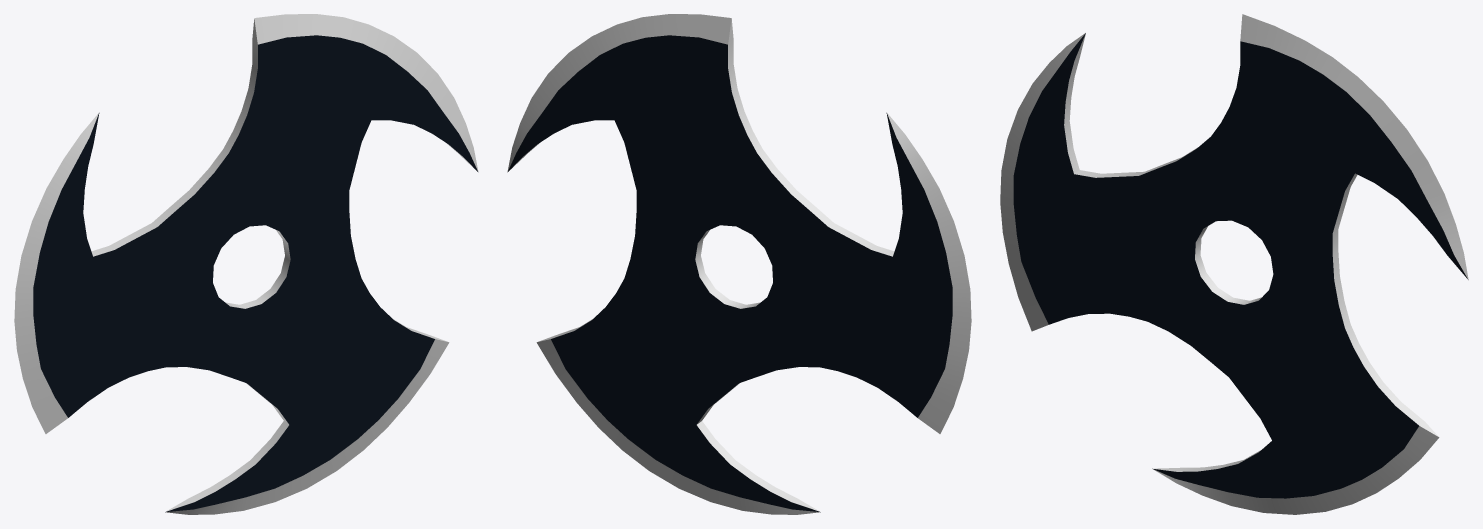
File: scene_zxoZcAJU3A.glb
3 renders of one model, left to right at view 1: azimuth 30°, elevation 25°; view 2: azimuth 150°, elevation 25°; view 3: azimuth 330°, elevation 25°, orthographic.
Visible parts, largest first — view 1: Shuriken_18; view 2: Shuriken_18; view 3: Shuriken_18.
Boxes of the visible parts, x1,y1,x2,y2 form: Shuriken_18: [14, 14, 478, 514]; Shuriken_18: [507, 14, 971, 514]; Shuriken_18: [1000, 14, 1468, 514].
Size of the model in its own units: 2.03 by 2.04 by 0.0426.
